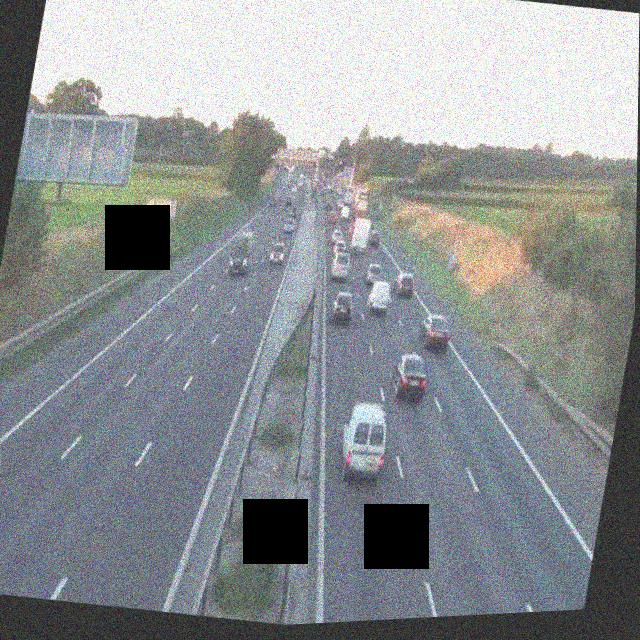car: (334, 398, 393, 485), (388, 351, 431, 404), (417, 311, 455, 355), (227, 230, 256, 277), (366, 277, 393, 316), (328, 291, 356, 326), (329, 247, 354, 282), (393, 271, 416, 299), (361, 261, 382, 286), (268, 238, 287, 265), (330, 230, 346, 251), (366, 226, 381, 248), (281, 217, 295, 235), (326, 209, 338, 225), (268, 196, 277, 208)
truck: (350, 213, 373, 251)
